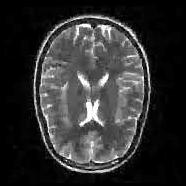Normal_Brain: (4, 1, 175, 186)
